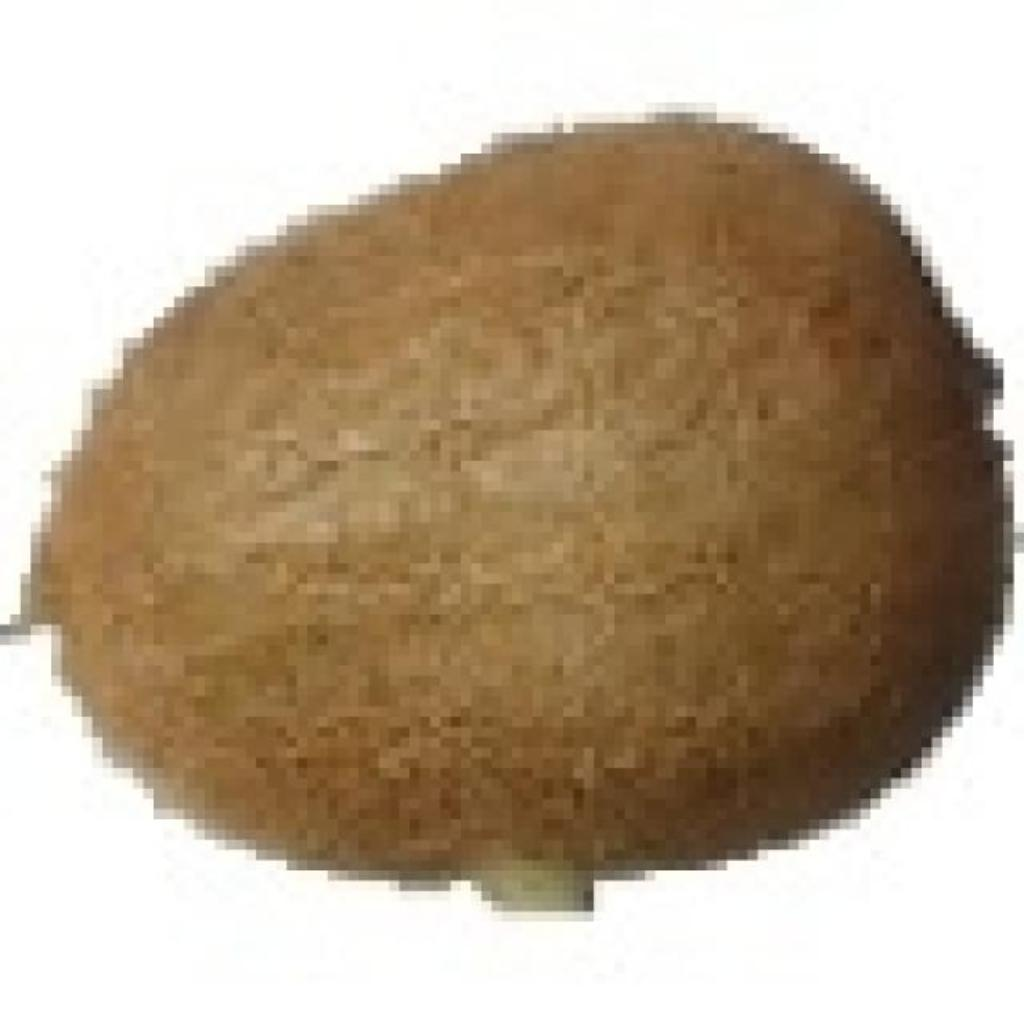kiwi: (20, 102, 983, 881)
